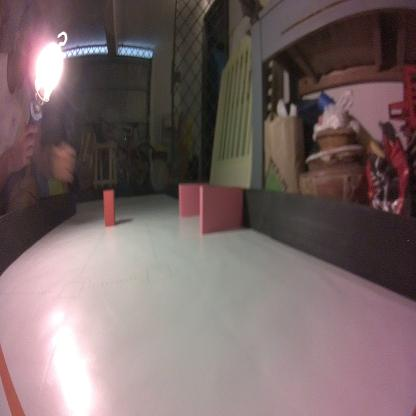magenta: (198, 182, 243, 236), (177, 181, 211, 221)
red: (102, 188, 116, 228)
